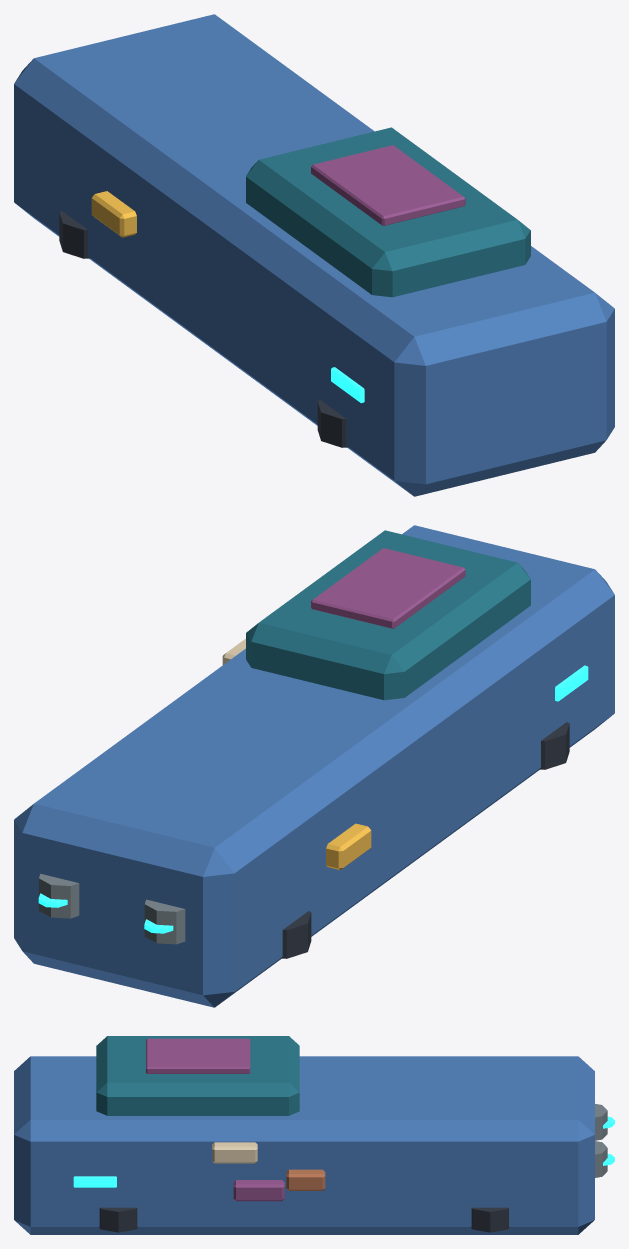
File: vehicles_023_seed11.glb
The picture shows the model from 3 angles, top to bottom: view 1: azimuth 30°, elevation 25°; view 2: azimuth 150°, elevation 25°; view 3: azimuth 270°, elevation 25°; orthographic projection. The views are drawn at different scales.
Parts seen in each view (by area): view 1: vehicles_023_seed11; view 2: vehicles_023_seed11; view 3: vehicles_023_seed11.
Part boxes in pixels (bbox=[...]): vehicles_023_seed11: bbox=[14, 14, 614, 496]; vehicles_023_seed11: bbox=[14, 525, 614, 1007]; vehicles_023_seed11: bbox=[14, 1036, 614, 1234].
Bounding box in the file's own units: 2.02 × 1.6 × 5.81.
